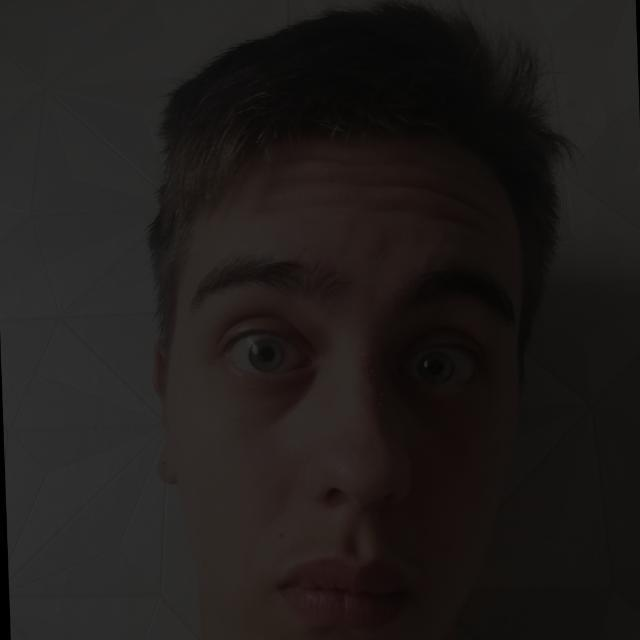Surprised: (77, 87, 566, 640)
